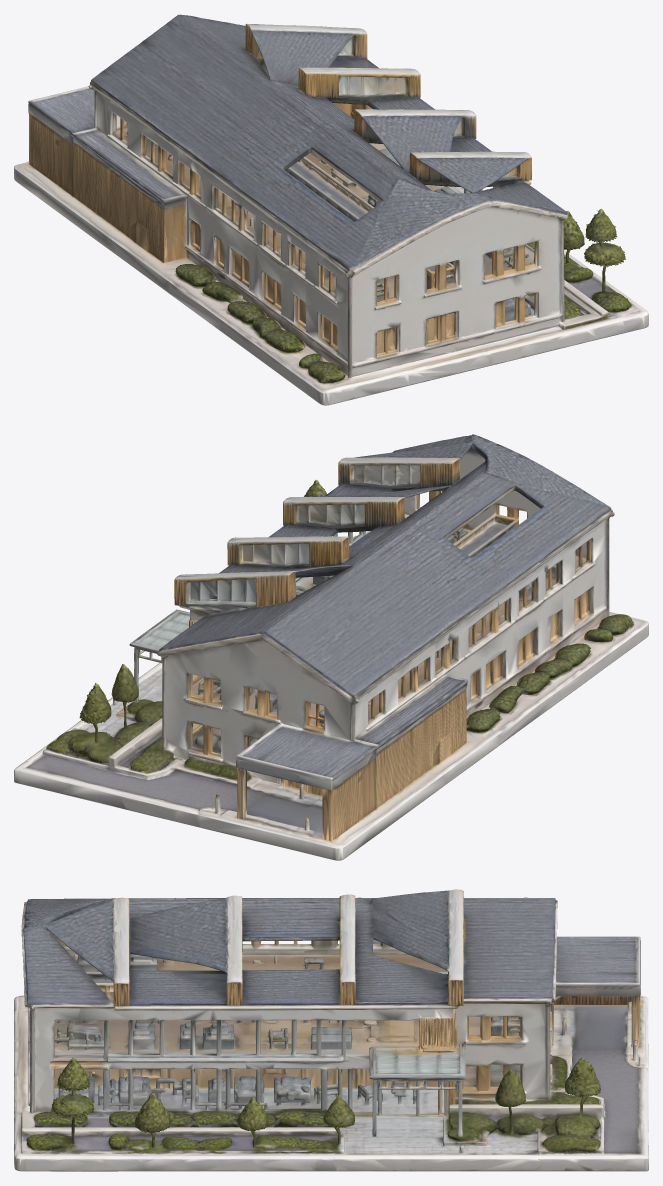
The model's file is b2-research.glb.
3 renders of one model, top to bottom at view 1: azimuth 30°, elevation 25°; view 2: azimuth 150°, elevation 25°; view 3: azimuth 270°, elevation 25°, orthographic.
Visible parts, largest first — view 1: tripo_node_87fe02d6-54fe-4a5d-9ba9-15bafae7cfd3; view 2: tripo_node_87fe02d6-54fe-4a5d-9ba9-15bafae7cfd3; view 3: tripo_node_87fe02d6-54fe-4a5d-9ba9-15bafae7cfd3.
Boxes of the visible parts, x1,y1,x2,y2 form: tripo_node_87fe02d6-54fe-4a5d-9ba9-15bafae7cfd3: (14, 14, 648, 405); tripo_node_87fe02d6-54fe-4a5d-9ba9-15bafae7cfd3: (14, 434, 648, 860); tripo_node_87fe02d6-54fe-4a5d-9ba9-15bafae7cfd3: (14, 889, 648, 1171).
Size of the model in its own units: 0.5956 by 0.3246 by 0.9792.
1 material, 1 textured.
